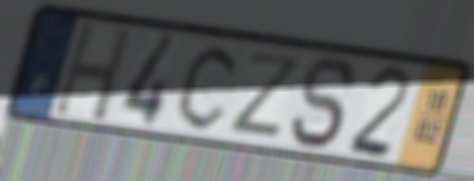2: (345, 63, 412, 162)
4: (117, 31, 175, 129)
C: (173, 41, 244, 133)
H: (49, 18, 136, 125)
S: (286, 53, 360, 152)
Z: (229, 49, 308, 140)
